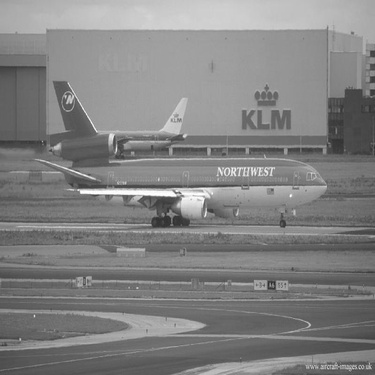airplane: (29, 71, 336, 239), (45, 93, 194, 160)
